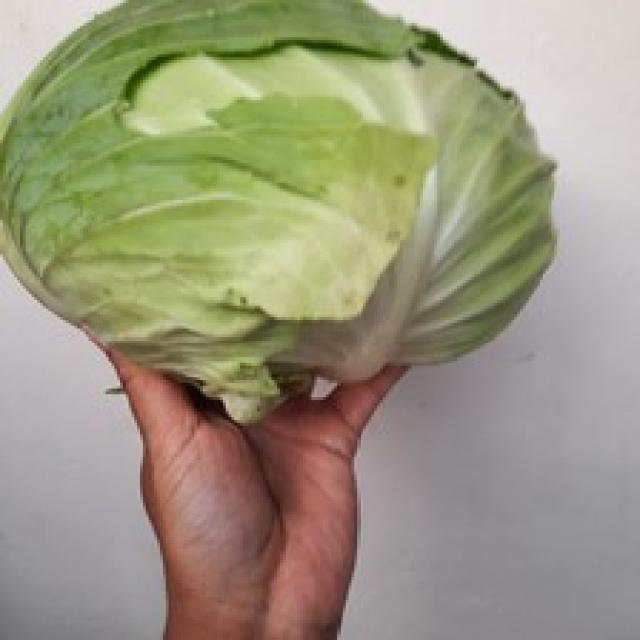Cabbage: (0, 0, 557, 429)
